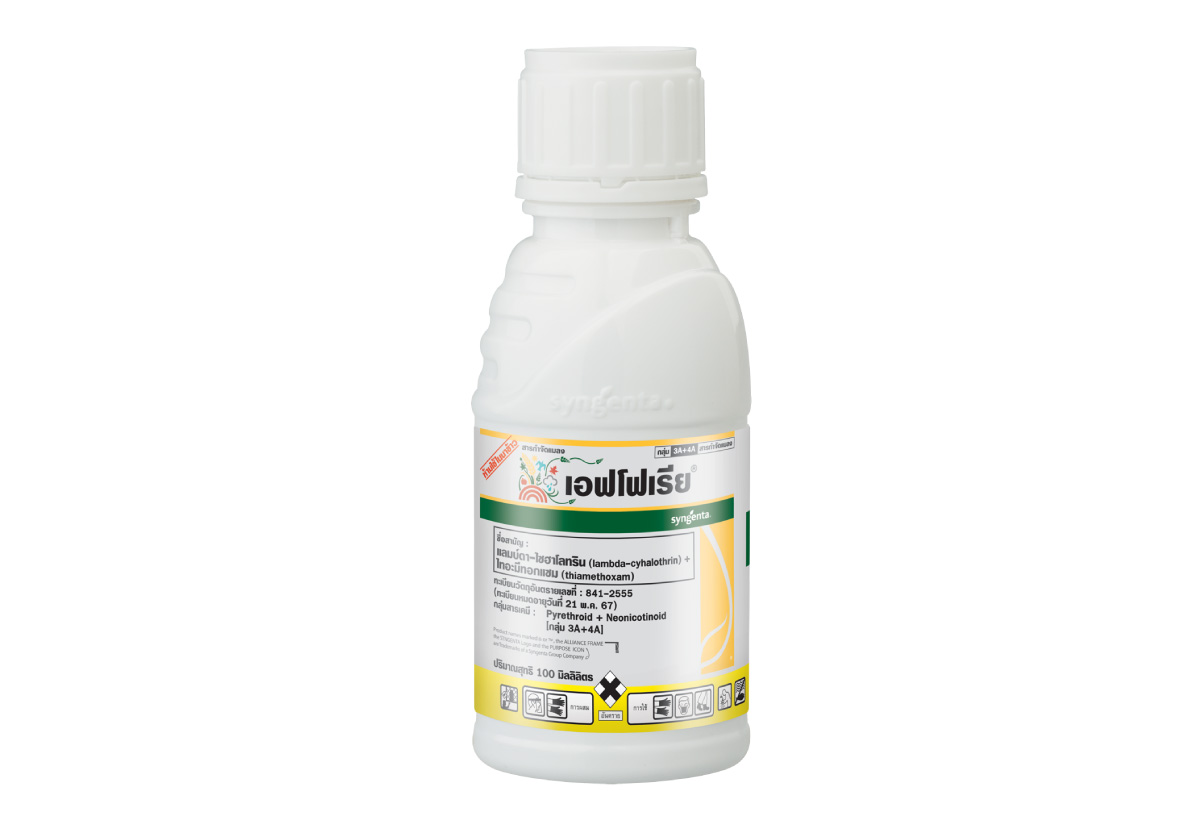Insecticide: (460, 31, 766, 792)
